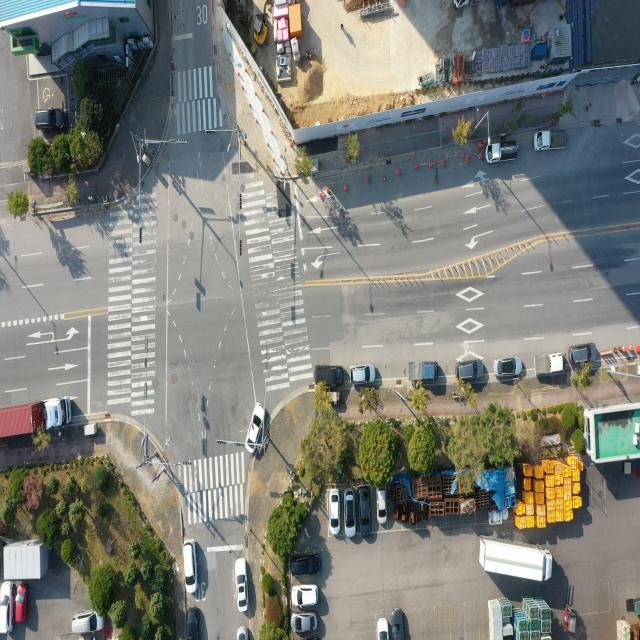car: (71, 610, 108, 636), (246, 402, 265, 452), (34, 106, 66, 131), (0, 578, 13, 638), (183, 540, 197, 594), (317, 364, 347, 387), (291, 556, 320, 579), (494, 355, 523, 378), (355, 368, 383, 391), (236, 560, 248, 612), (358, 489, 371, 537), (350, 364, 377, 387), (569, 344, 596, 366), (459, 359, 486, 381), (346, 491, 358, 538), (292, 586, 317, 608), (329, 491, 340, 536), (292, 615, 316, 635), (14, 585, 26, 624), (392, 608, 405, 640), (186, 606, 198, 640), (378, 490, 388, 524), (85, 422, 101, 437), (379, 619, 390, 640)
large_truck: (2, 398, 72, 443)
medium_truck: (477, 540, 552, 584)
small_truck: (536, 353, 568, 378), (406, 358, 439, 382), (485, 141, 518, 164), (536, 130, 568, 153)
